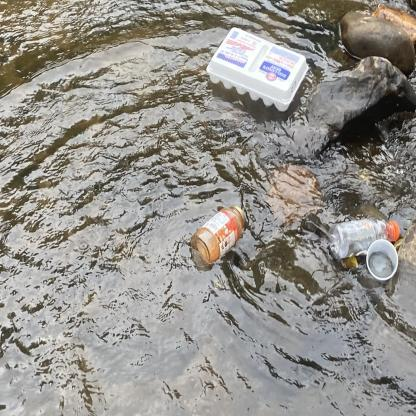trash: (203, 23, 314, 119), (264, 155, 328, 247), (324, 209, 410, 264), (186, 202, 252, 272), (360, 232, 400, 288)
